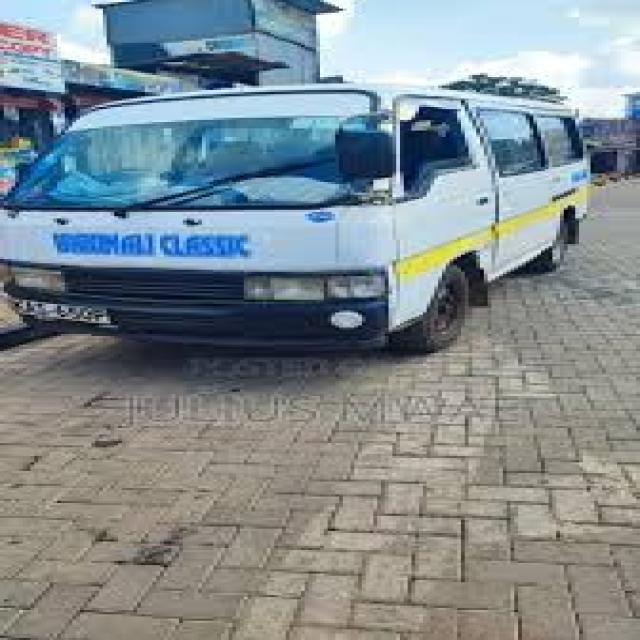matatu: (6, 43, 636, 379)
